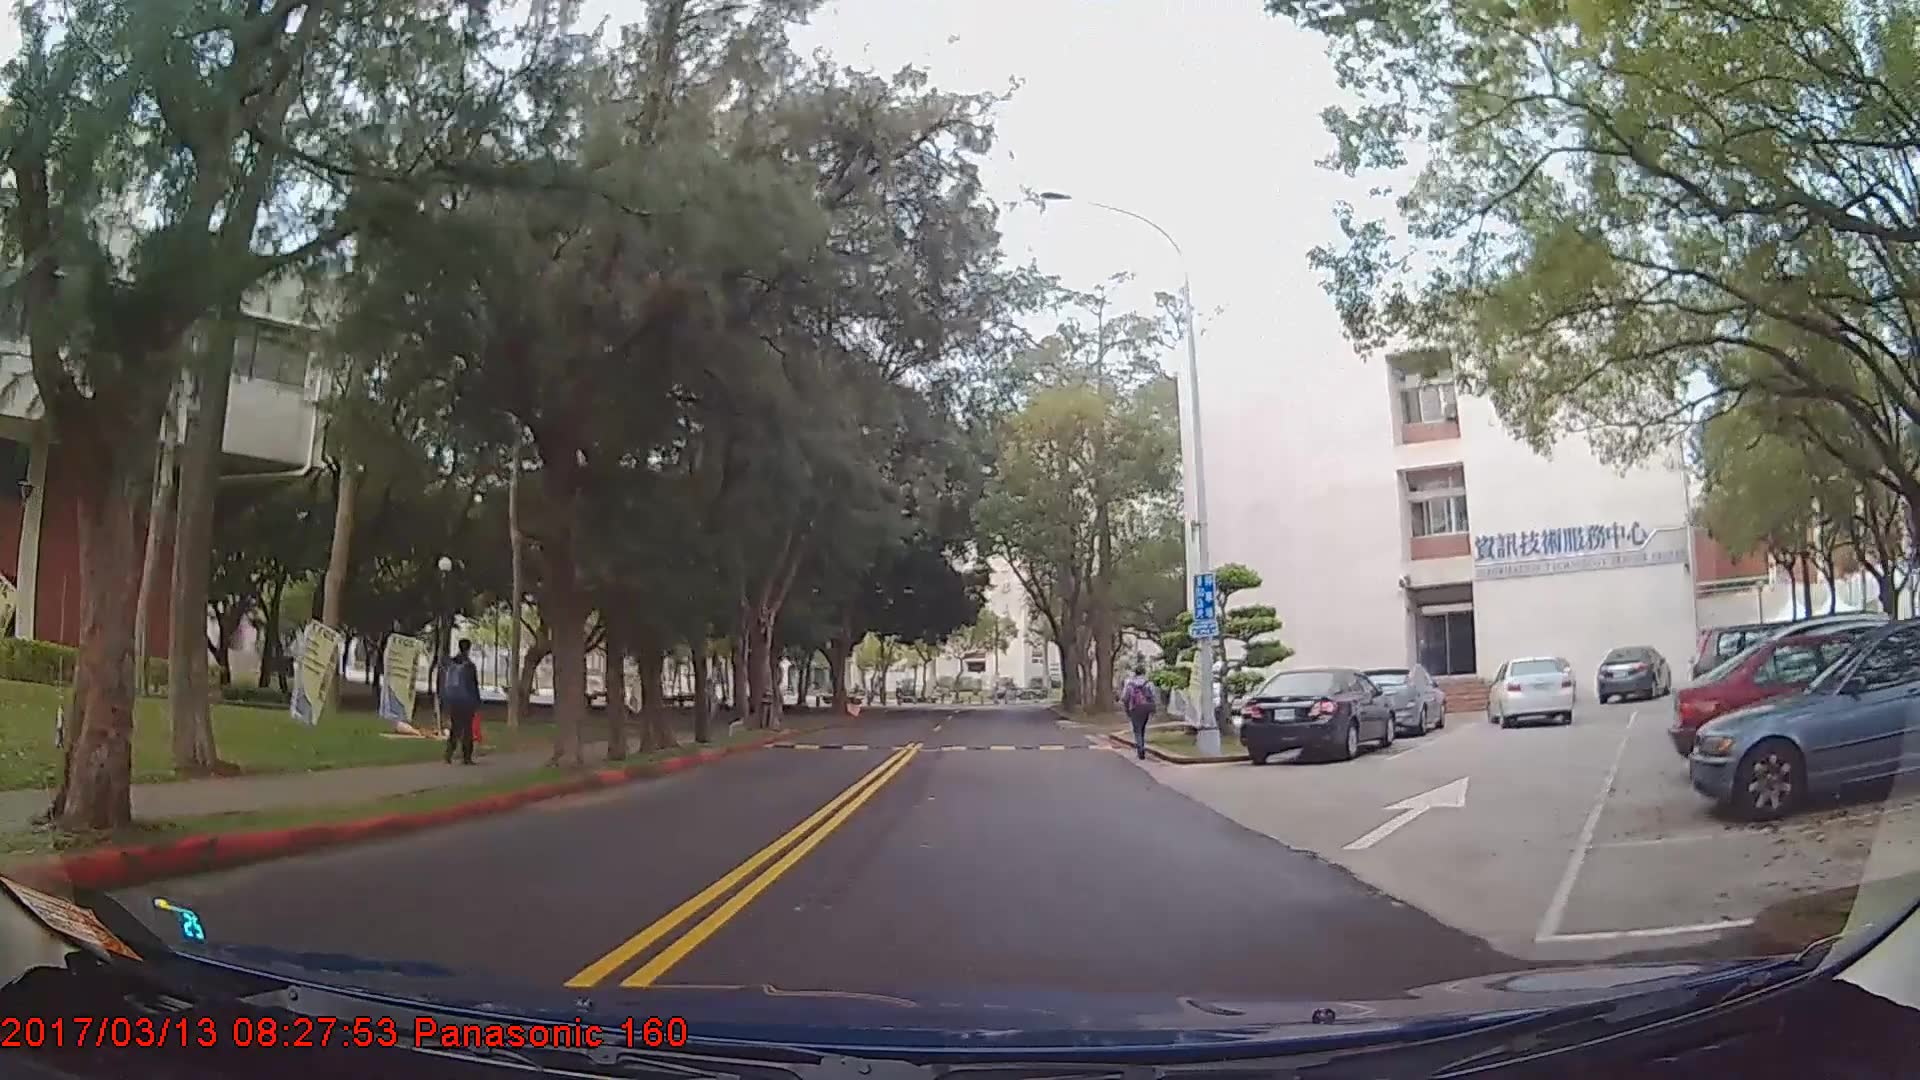pedestrian: (439, 646, 481, 774), (1126, 666, 1160, 763)
vehicle: (1688, 618, 1920, 823), (1665, 625, 1920, 772), (1240, 665, 1397, 762), (1353, 660, 1449, 737), (1488, 656, 1575, 728), (1594, 643, 1669, 703)
